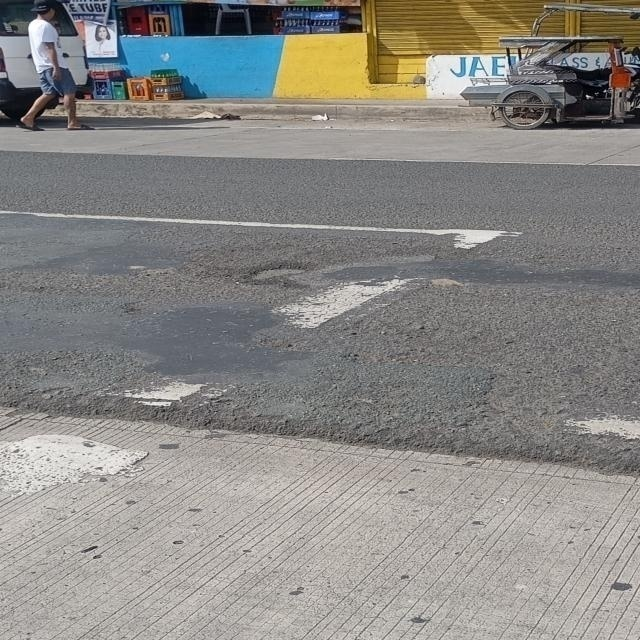pothole: (232, 248, 344, 298)
